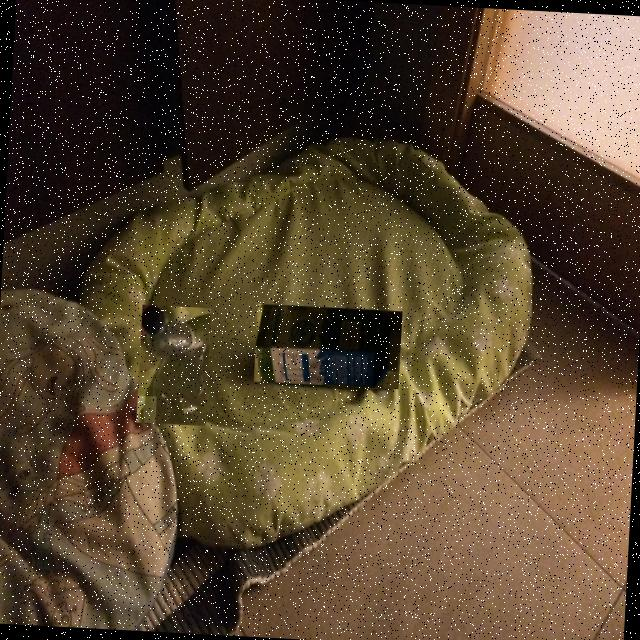Clear plastic bottle: (142, 306, 208, 424)
Drink carton: (255, 306, 401, 388)
Plastic bottle cap: (137, 397, 156, 423)
